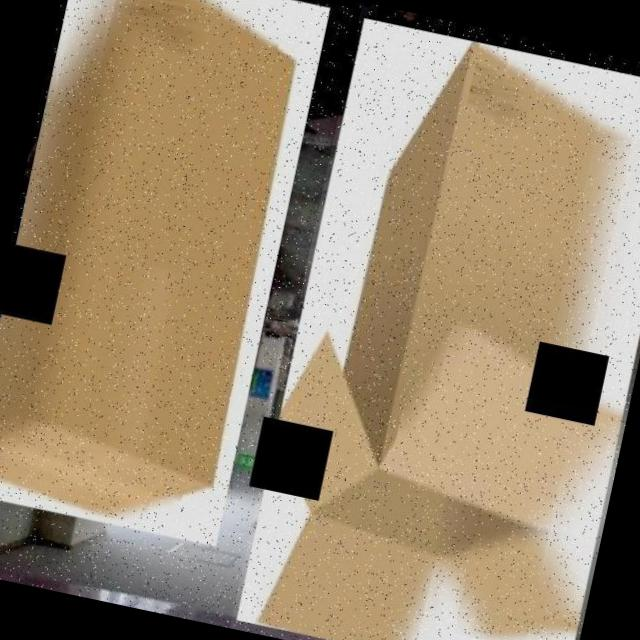box: (229, 5, 640, 640), (0, 0, 335, 555)
